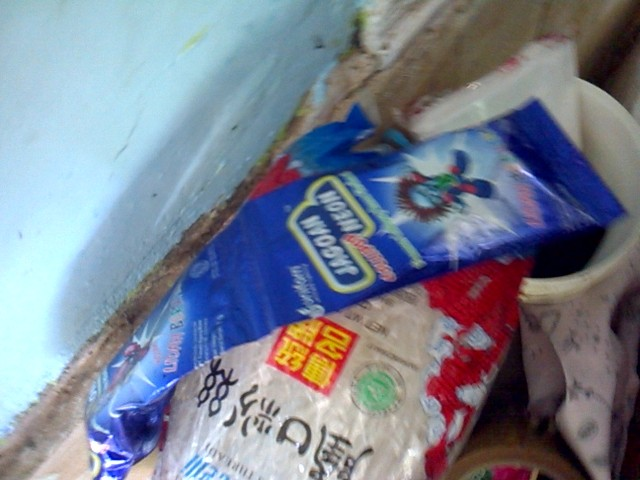jagoan neon: (236, 101, 626, 331)
